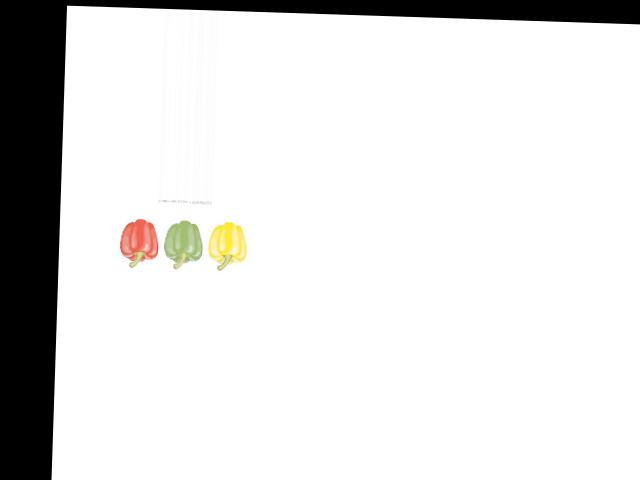bell_pepper: (205, 217, 250, 270)
